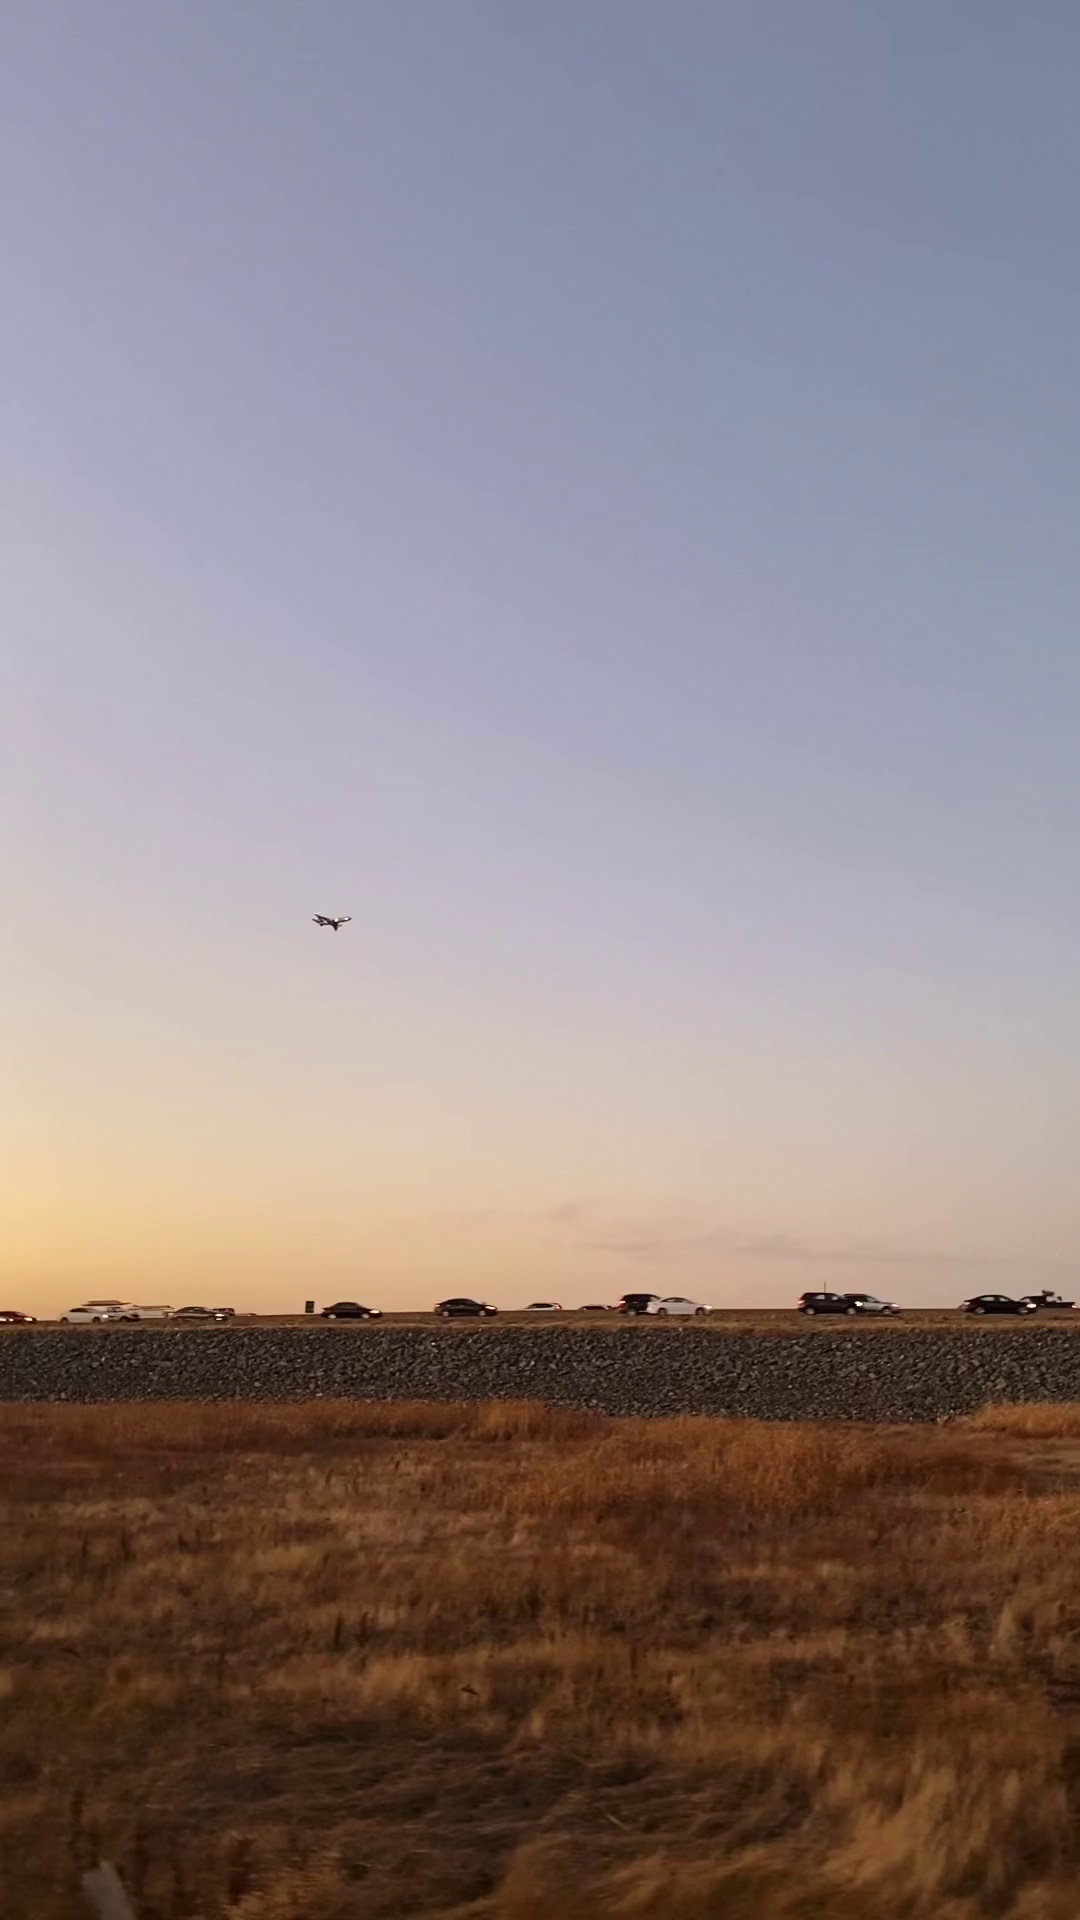plane: (310, 911, 352, 931)
